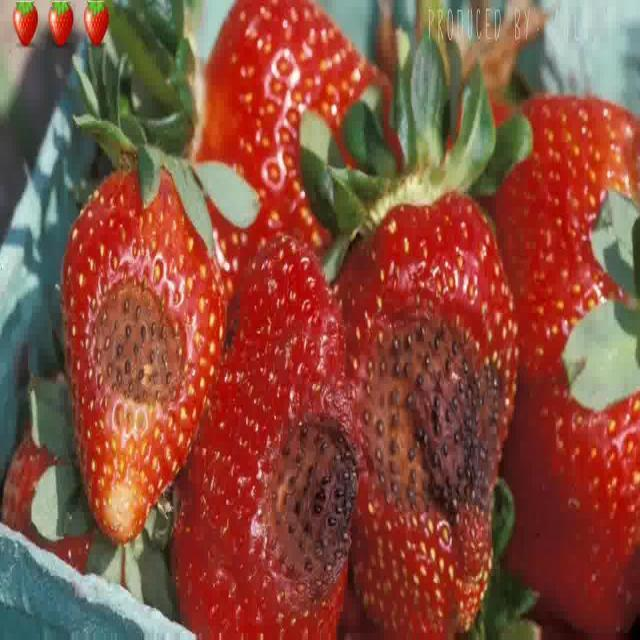Mancha negra Antracnosis: (362, 150, 514, 622), (207, 218, 360, 634), (59, 130, 214, 530)
